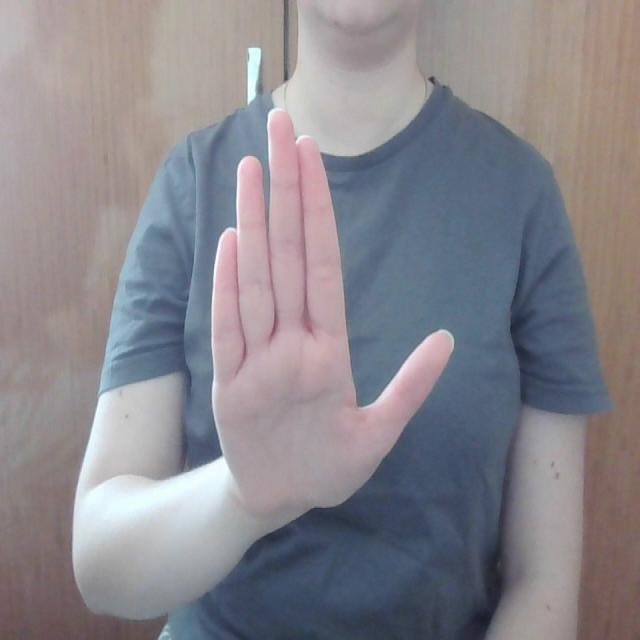Dur: (151, 102, 469, 507)
